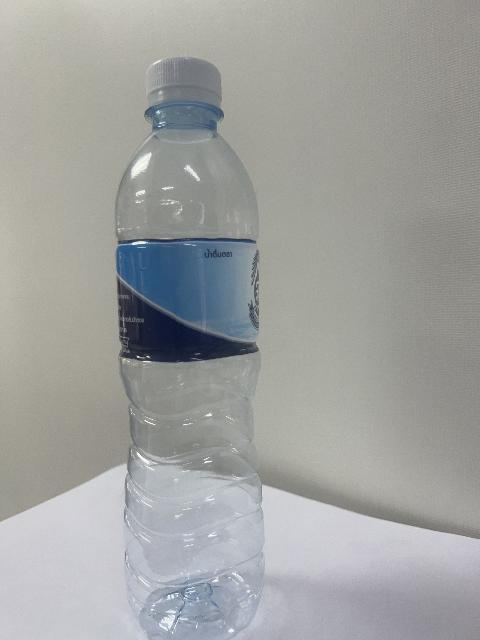bottle: (116, 58, 263, 639)
